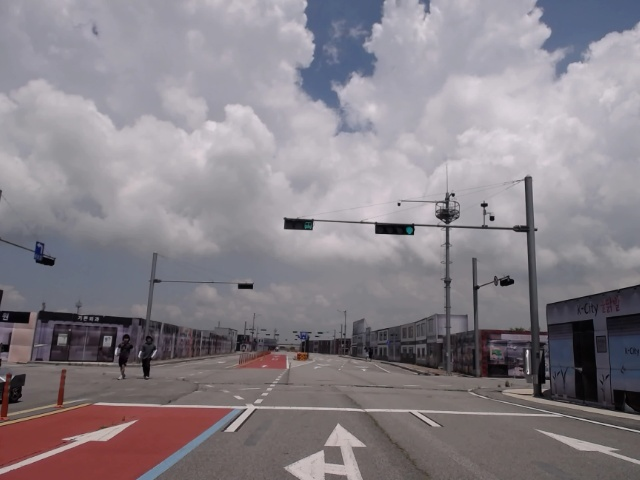straight_green_4: (375, 222, 414, 235)
